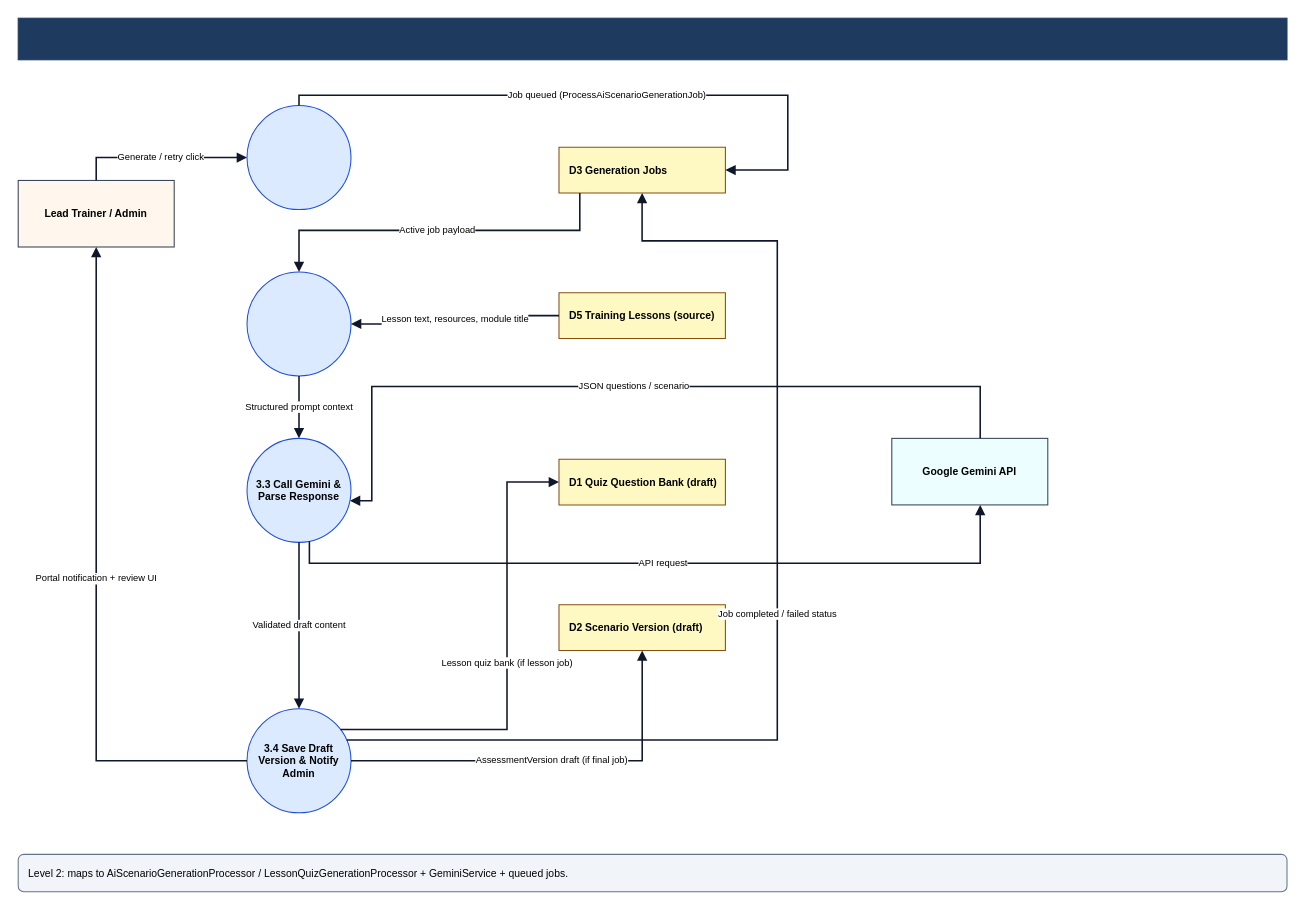
The diagram is 1305 pixels wide and 910 high, and some of its shapes have lost their labels. The centre of each missing label's shape, as x and y in pixels:
"3.1 Queue Generation Job" goes at point (298, 157).
"3.2 Extract Lesson / Module Context" goes at point (298, 323).
"DFD Level 2 — Process 3.0 Generate AI Content (Detail)" goes at point (652, 38).
